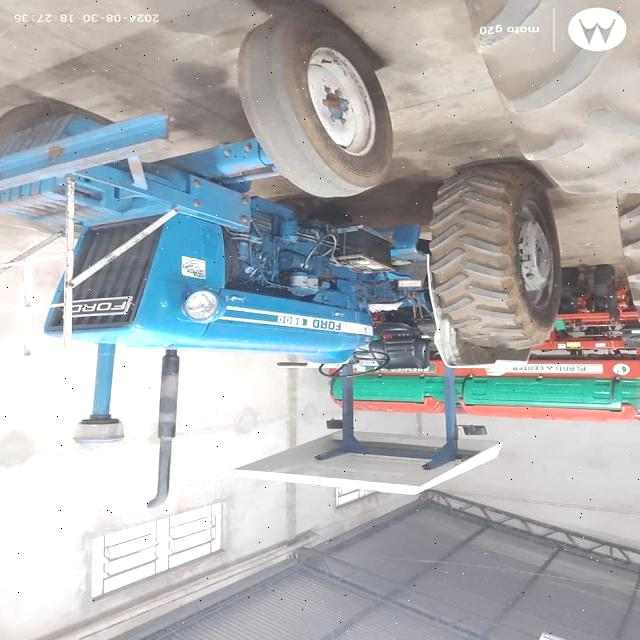Tratores - v5 YOLO V8L 2024-11-13: (0, 12, 576, 506)
